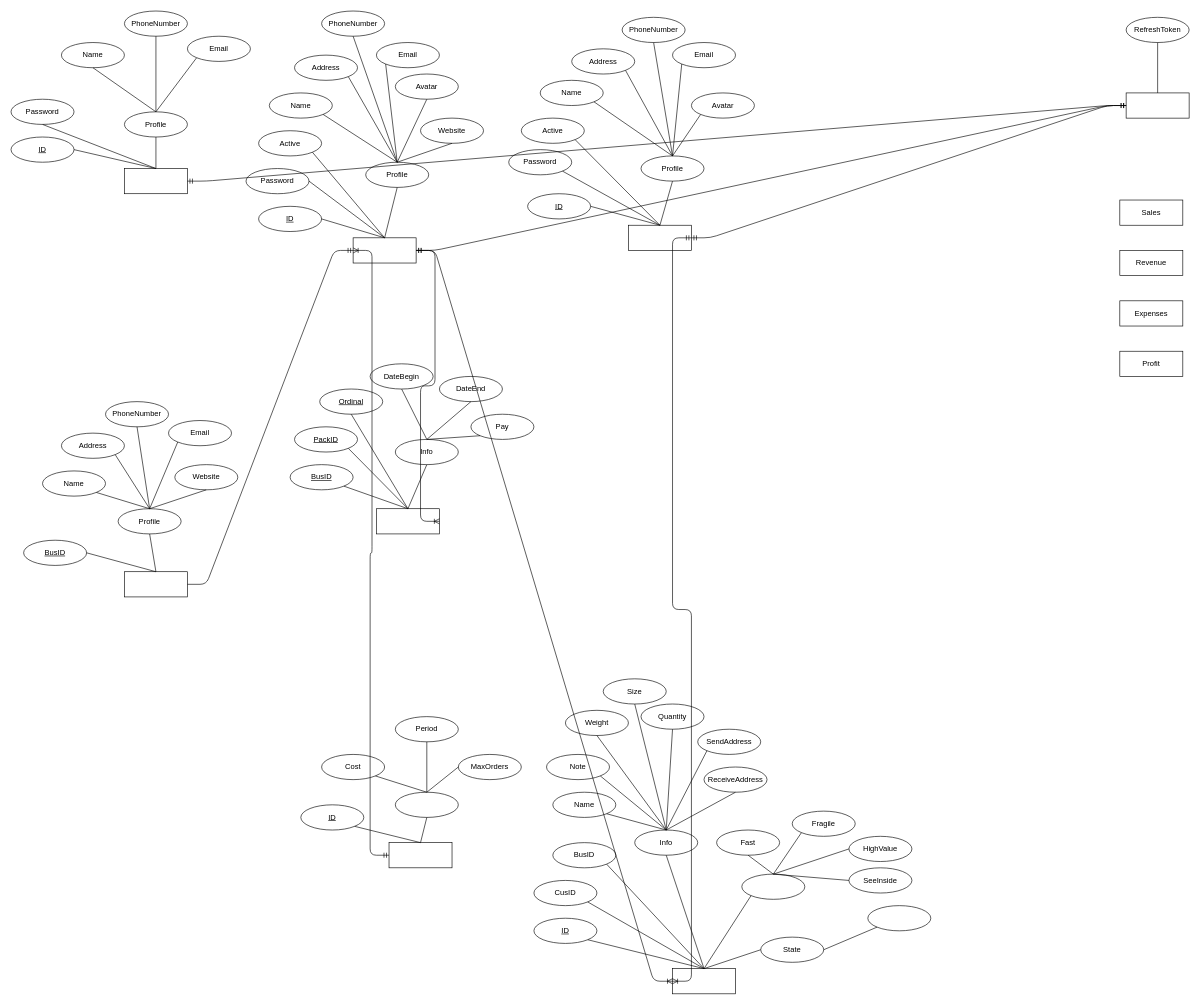
This 1200x1005 diagram has some shape labels left out. Here are the shapes that lost their labels. From the top down, the box of each, then its label:
(1125, 92, 1189, 118): ResToken
(124, 168, 187, 194): SysAdAcc
(352, 237, 416, 263): BusAcc
(628, 225, 691, 250): CusAcc
(376, 508, 439, 534): RegisteredSP
(124, 571, 187, 597): RegisteredQueue
(395, 792, 458, 817): PackInfo
(388, 842, 452, 868): ServicePacks
(741, 873, 805, 899): Addons
(867, 905, 931, 931): "Detail and Time"
(672, 968, 736, 994): Orders
